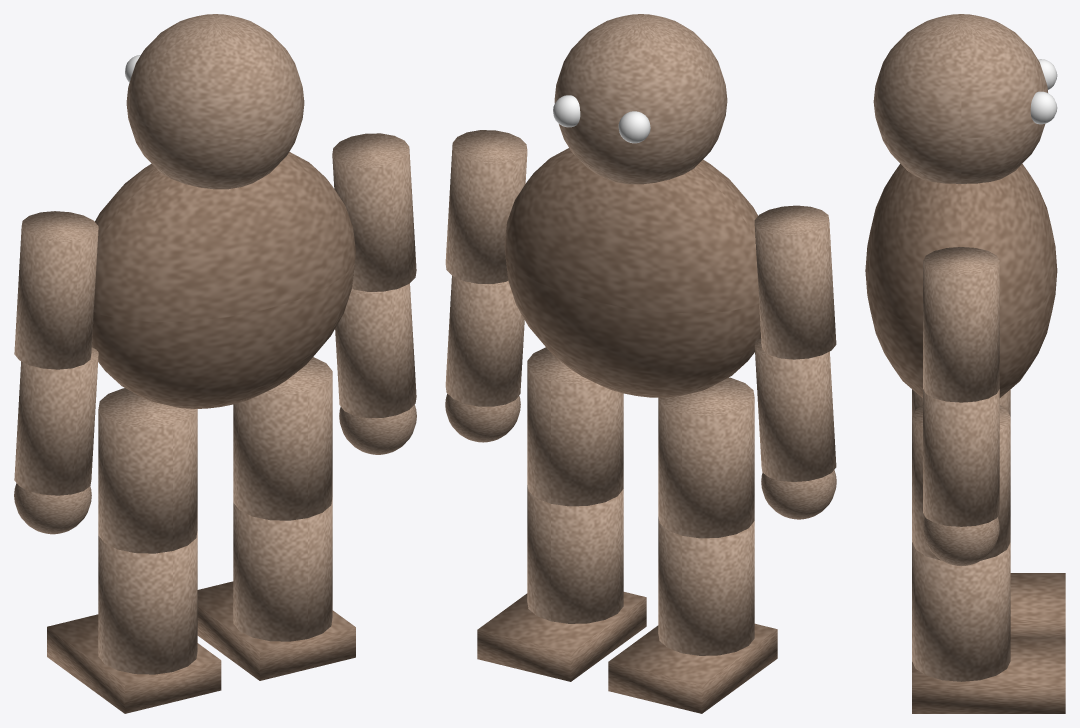
The model's file is air-elemental.glb.
3 renders of one model, left to right at view 1: azimuth 30°, elevation 25°; view 2: azimuth 150°, elevation 25°; view 3: azimuth 270°, elevation 25°, orthographic. The views are drawn at different scales.
Parts seen in each view (by area): view 1: Torso, Head, ThighL, ThighR, ShinR, ShinL, UpperArmL, UpperArmR, ForearmL, ForearmR, FootL, FootR (+2 smaller); view 2: Torso, Head, ThighL, ThighR, ShinR, ShinL, UpperArmL, UpperArmR, ForearmL, ForearmR, FootL, FootR (+4 smaller); view 3: Torso, Head, ShinR, UpperArmR, ForearmR, FootR, FootL, ThighR, HandR, Eye.001, ThighL, Eye.
Part boxes in pixels (left/top/right/bottom): Torso: left=92, top=152, right=355, bottom=408; Head: left=126, top=14, right=304, bottom=189; ThighL: left=98, top=388, right=197, bottom=553; ThighR: left=233, top=357, right=332, bottom=520; ShinR: left=233, top=497, right=332, bottom=641; ShinL: left=98, top=531, right=197, bottom=674; UpperArmL: left=14, top=211, right=98, bottom=369; UpperArmR: left=332, top=133, right=416, bottom=291; ForearmL: left=14, top=347, right=98, bottom=495; ForearmR: left=335, top=283, right=416, bottom=418; FootL: left=47, top=614, right=221, bottom=713; FootR: left=197, top=581, right=355, bottom=680; Torso: left=504, top=148, right=760, bottom=397; Head: left=554, top=14, right=727, bottom=184; ThighL: left=658, top=377, right=754, bottom=538; ThighR: left=527, top=347, right=623, bottom=506; ShinR: left=527, top=485, right=623, bottom=623; ShinL: left=658, top=517, right=754, bottom=655; UpperArmL: left=754, top=205, right=836, bottom=359; UpperArmR: left=445, top=130, right=527, bottom=283; ForearmL: left=754, top=338, right=836, bottom=481; ForearmR: left=445, top=276, right=524, bottom=406; FootL: left=608, top=623, right=777, bottom=713; FootR: left=477, top=592, right=646, bottom=681; Torso: left=865, top=163, right=1057, bottom=397; Head: left=873, top=14, right=1047, bottom=183; ShinR: left=912, top=542, right=1010, bottom=681; UpperArmR: left=923, top=247, right=999, bottom=402; ForearmR: left=923, top=389, right=999, bottom=526; FootR: left=912, top=637, right=1065, bottom=713; FootL: left=1010, top=573, right=1065, bottom=637; ThighR: left=912, top=405, right=1010, bottom=560; HandR: left=923, top=517, right=999, bottom=566; Eye.001: left=1030, top=91, right=1057, bottom=124; ThighL: left=912, top=389, right=1010, bottom=416; Eye: left=1038, top=59, right=1057, bottom=89.
Size of the model in its own units: 0.6367 by 1 by 0.2852.
3 materials, 2 textured.
